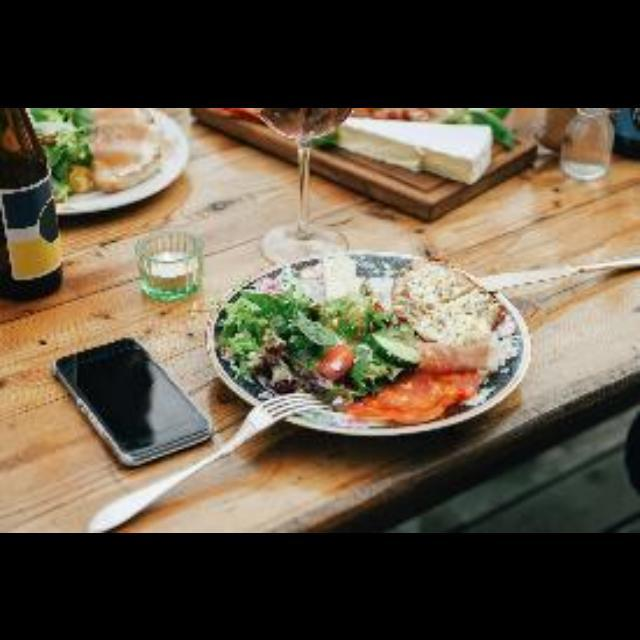Phone: (29, 340, 217, 466)
